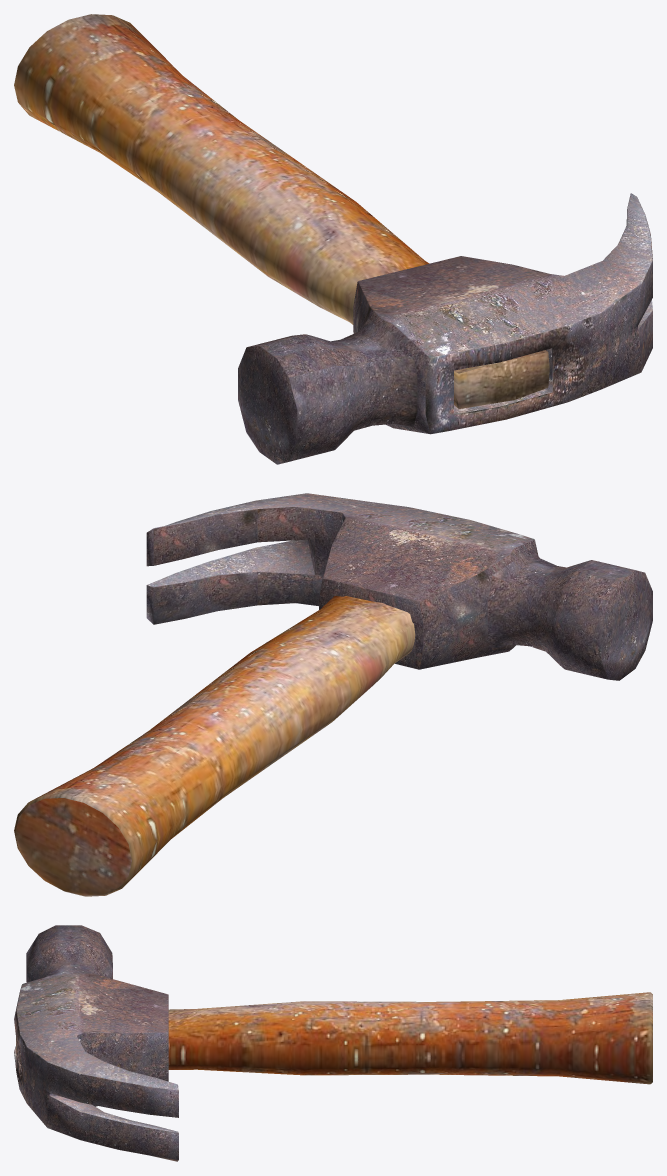
File: Hammer03.obj
3 renders of one model, top to bottom at view 1: azimuth 30°, elevation 25°; view 2: azimuth 150°, elevation 25°; view 3: azimuth 270°, elevation 25°, orthographic. The views are drawn at different scales.
Parts seen in each view (by area): view 1: Box01, Cylinder01; view 2: Box01, Cylinder01; view 3: Cylinder01, Box01.
Boxes of the visible parts, x1=… form: Box01: x1=238, y1=193, x2=652, y2=464; Cylinder01: x1=14, y1=14, x2=549, y2=408; Box01: x1=146, y1=493, x2=652, y2=680; Cylinder01: x1=14, y1=596, x2=415, y2=896; Cylinder01: x1=16, y1=992, x2=652, y2=1084; Box01: x1=14, y1=925, x2=178, y2=1161.
Bounding box in the file's own units: 39.33 × 8.94 × 65.4.
